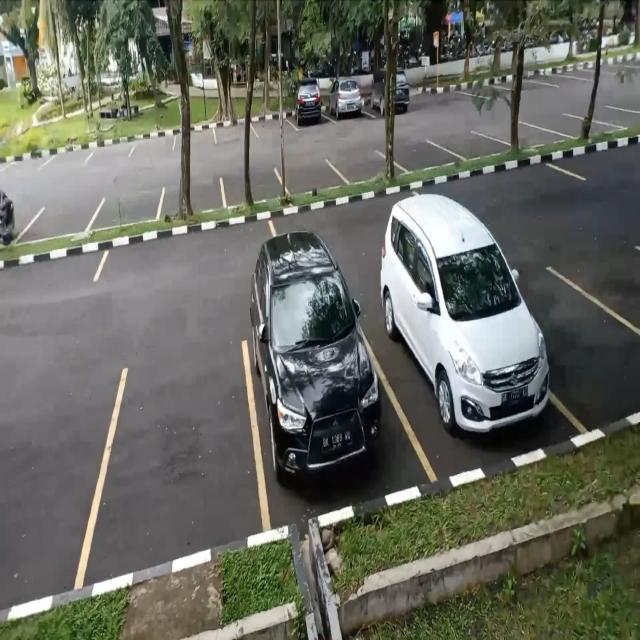empty: (92, 347, 255, 552), (23, 199, 99, 237), (158, 178, 225, 219), (96, 189, 164, 229), (222, 165, 279, 208), (279, 161, 346, 195), (338, 149, 400, 184), (394, 140, 454, 175), (453, 128, 510, 160), (514, 120, 568, 152), (528, 116, 579, 147), (604, 103, 639, 129)
occupied: (384, 244, 556, 461), (251, 292, 389, 501), (291, 86, 326, 132), (327, 82, 364, 125)
